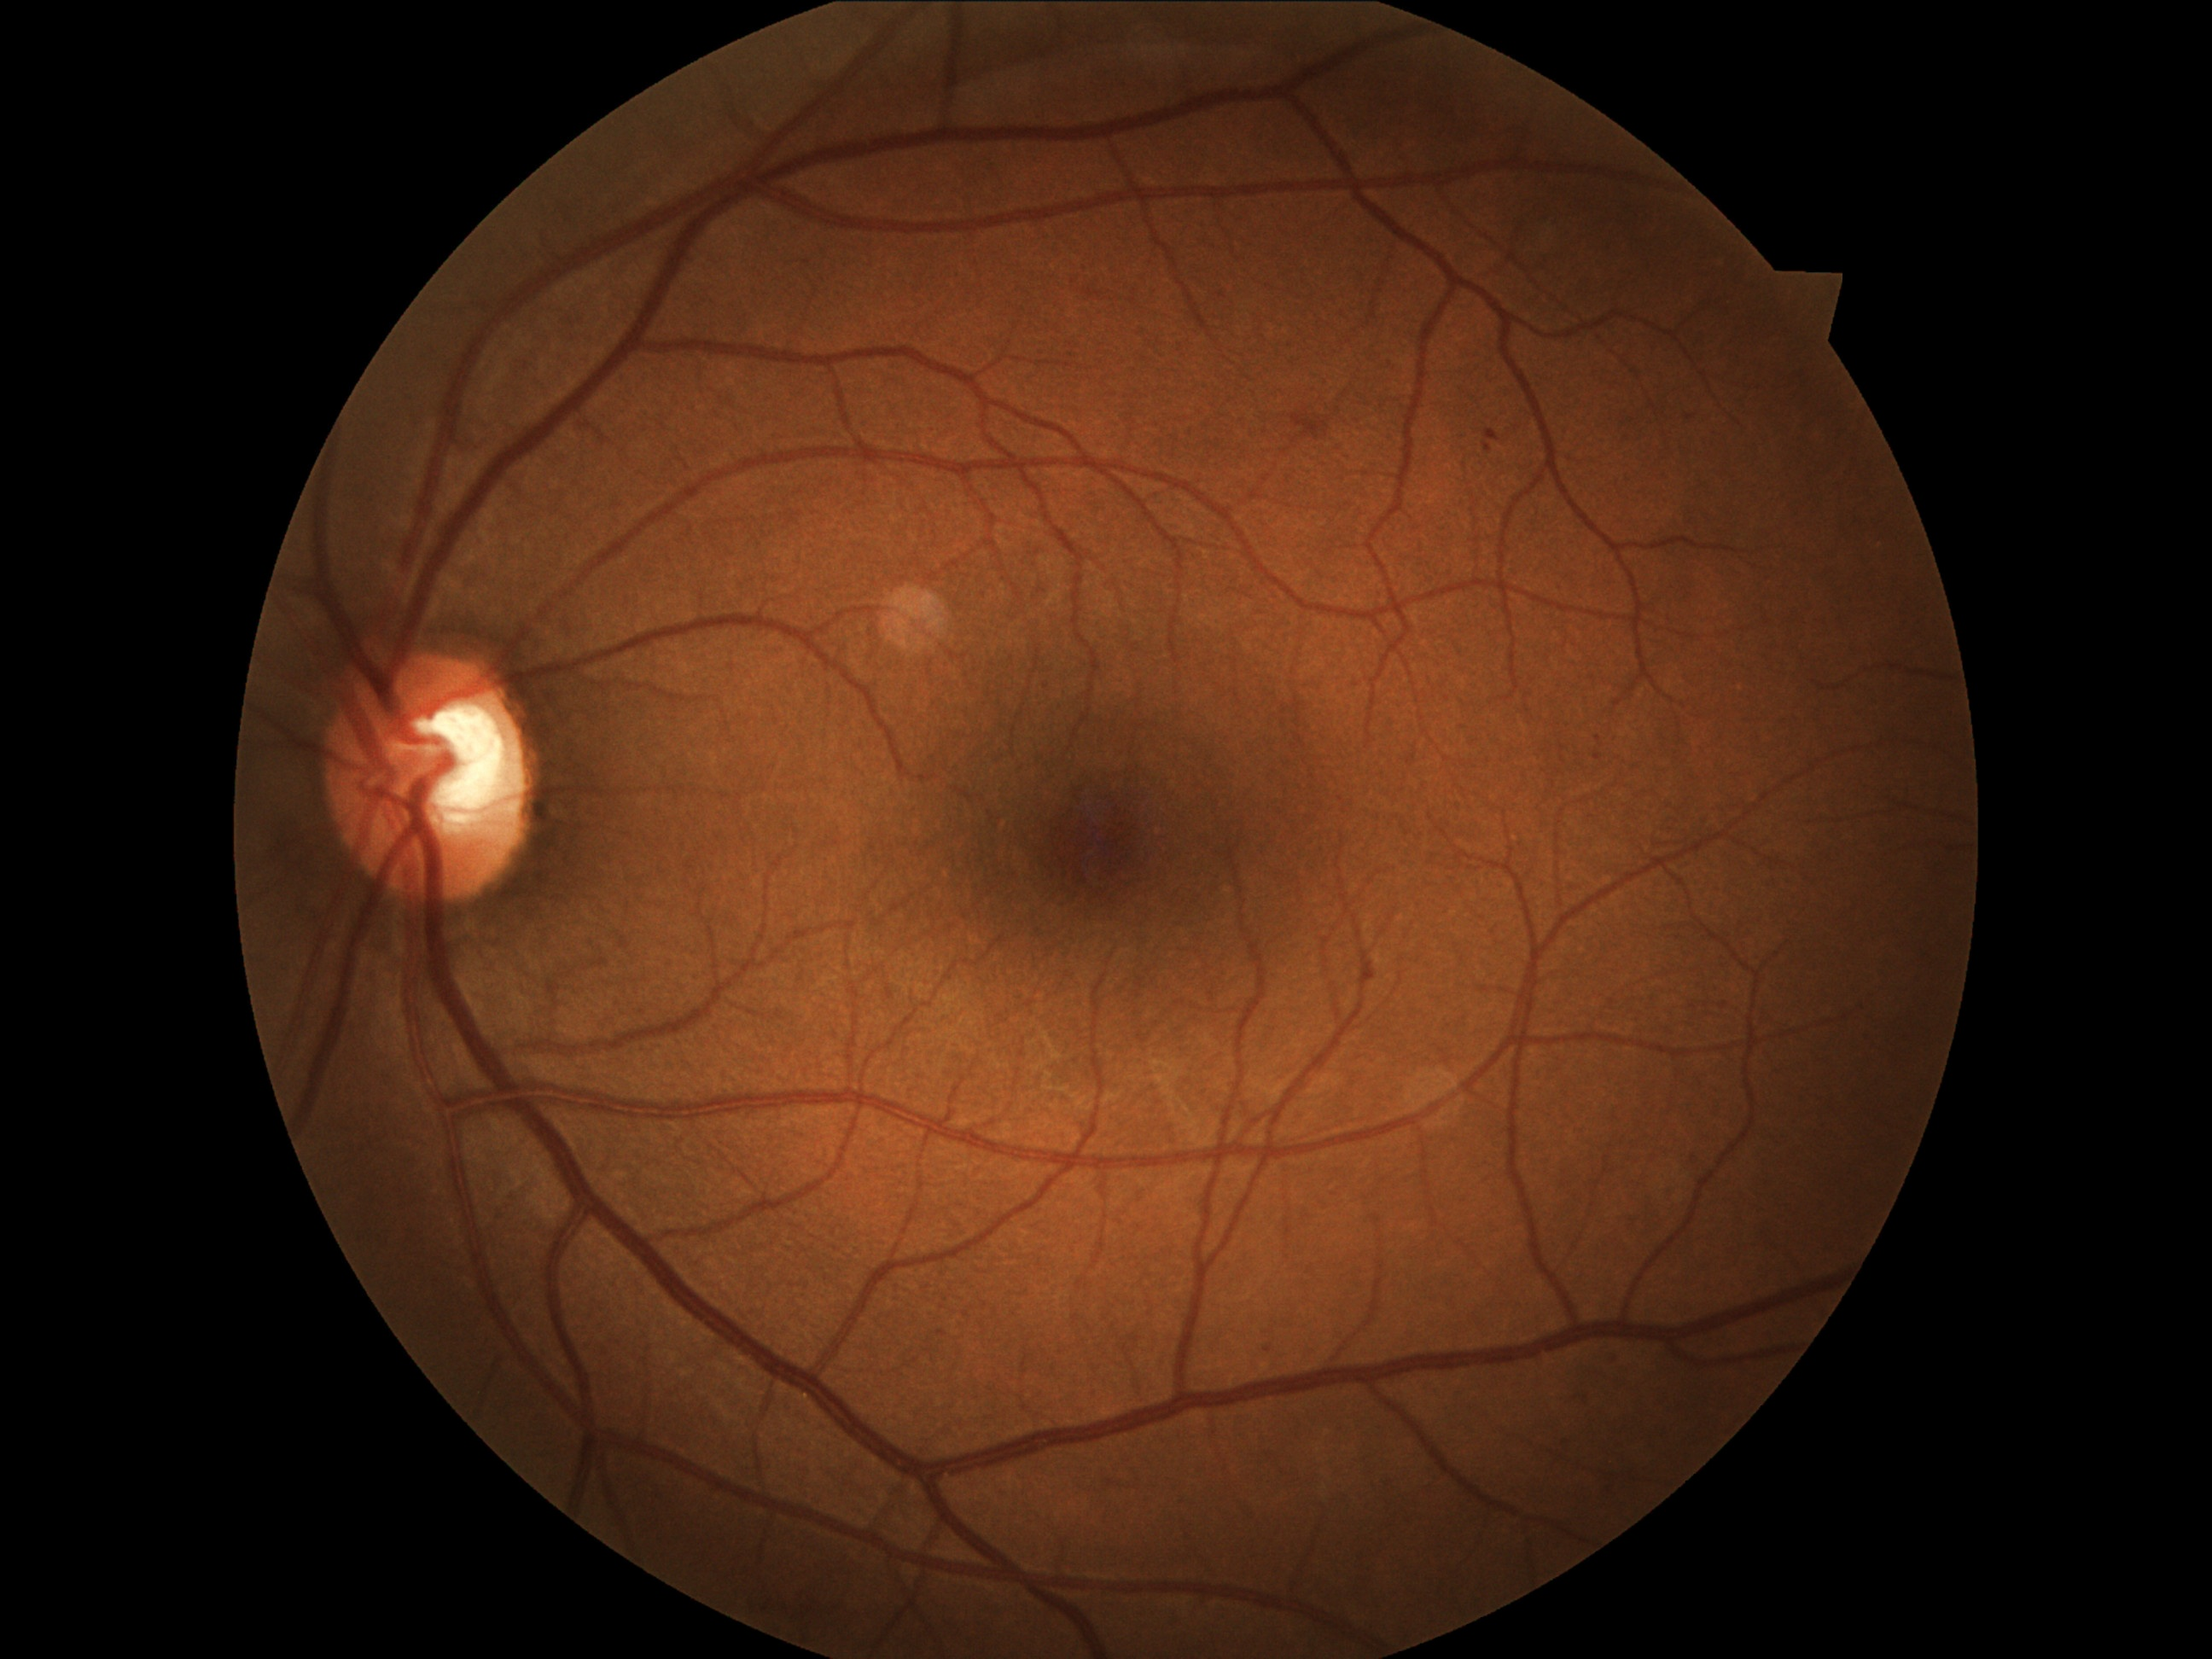Fovea: (1007, 765, 1195, 927)
OD: (298, 645, 561, 915)
